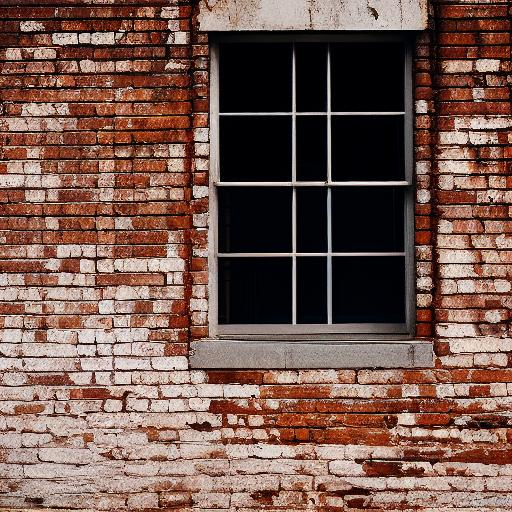Window: (187, 2, 440, 371)
